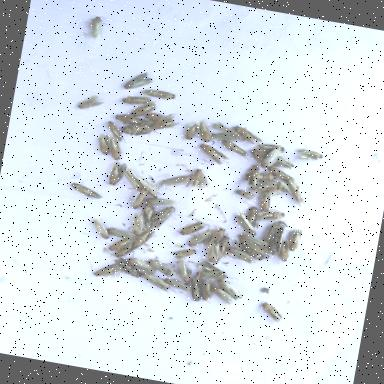pbw: (140, 272, 180, 295), (84, 258, 124, 281), (100, 160, 129, 190), (148, 202, 178, 231), (112, 257, 147, 281), (230, 124, 268, 146), (214, 138, 252, 160), (266, 218, 288, 256), (119, 117, 157, 139), (124, 69, 156, 94), (232, 240, 266, 263), (260, 142, 286, 172), (232, 212, 262, 238), (84, 13, 110, 42), (198, 144, 232, 166), (150, 111, 182, 134), (78, 87, 106, 113), (130, 96, 160, 120), (161, 168, 193, 190), (280, 179, 306, 206), (120, 168, 147, 194), (246, 168, 284, 186), (68, 182, 104, 201), (278, 239, 302, 267), (266, 150, 298, 171), (103, 134, 127, 162), (135, 176, 164, 199), (108, 232, 136, 255), (146, 258, 178, 278), (195, 258, 230, 276), (104, 120, 130, 144), (128, 184, 150, 212), (179, 218, 207, 240), (258, 302, 286, 324), (120, 92, 152, 111), (88, 216, 113, 240), (188, 166, 213, 190), (226, 247, 256, 267), (214, 280, 244, 300), (187, 274, 207, 304), (187, 227, 213, 250), (292, 146, 325, 164), (211, 120, 244, 138), (141, 86, 178, 102), (257, 206, 288, 225), (193, 118, 215, 144), (196, 266, 231, 282), (113, 240, 138, 262), (268, 166, 298, 184), (134, 225, 156, 249), (244, 202, 264, 228), (251, 176, 283, 192), (238, 231, 268, 248), (126, 257, 157, 273), (163, 277, 193, 293), (106, 225, 136, 241), (171, 245, 197, 263), (113, 112, 142, 128), (212, 287, 236, 306), (146, 195, 178, 209), (174, 260, 194, 282), (254, 139, 283, 154), (96, 132, 114, 156), (204, 240, 222, 264), (200, 278, 218, 302), (144, 110, 174, 124), (210, 130, 240, 144), (288, 226, 304, 252), (142, 202, 160, 224), (130, 212, 146, 236), (246, 164, 262, 188), (212, 224, 231, 244), (184, 120, 201, 142), (216, 234, 230, 260), (246, 184, 274, 196), (259, 192, 273, 214), (234, 187, 256, 201), (250, 150, 272, 164), (266, 186, 284, 200)
